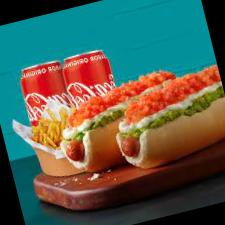Completos: (45, 58, 197, 169), (101, 59, 225, 173)
